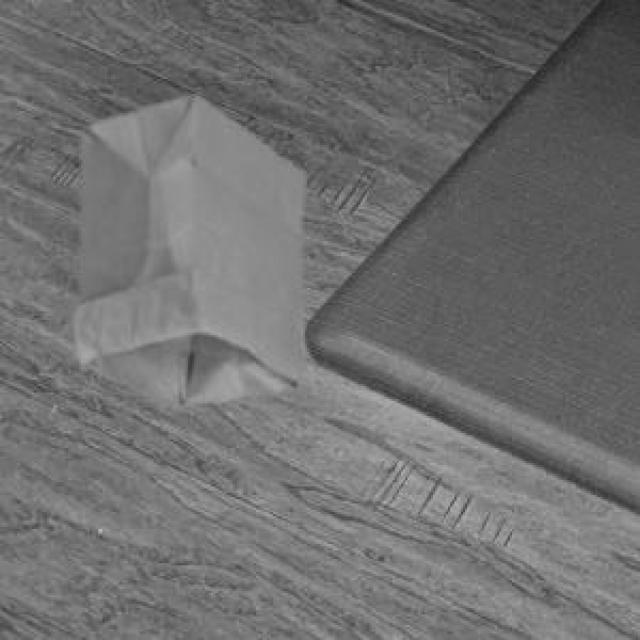paper: (73, 92, 301, 401)
